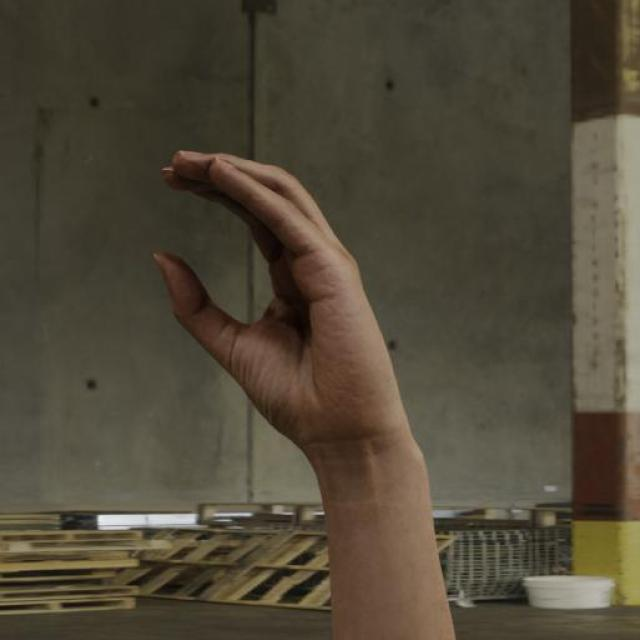C: (143, 143, 411, 438)
